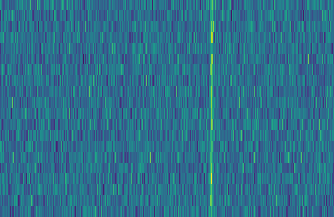signal: (207, 0, 216, 217)
